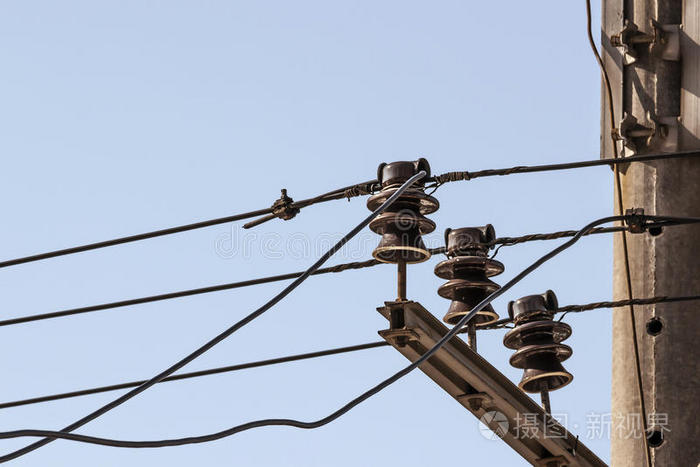insulator: (503, 314, 573, 394), (436, 253, 506, 328), (369, 190, 436, 268)
